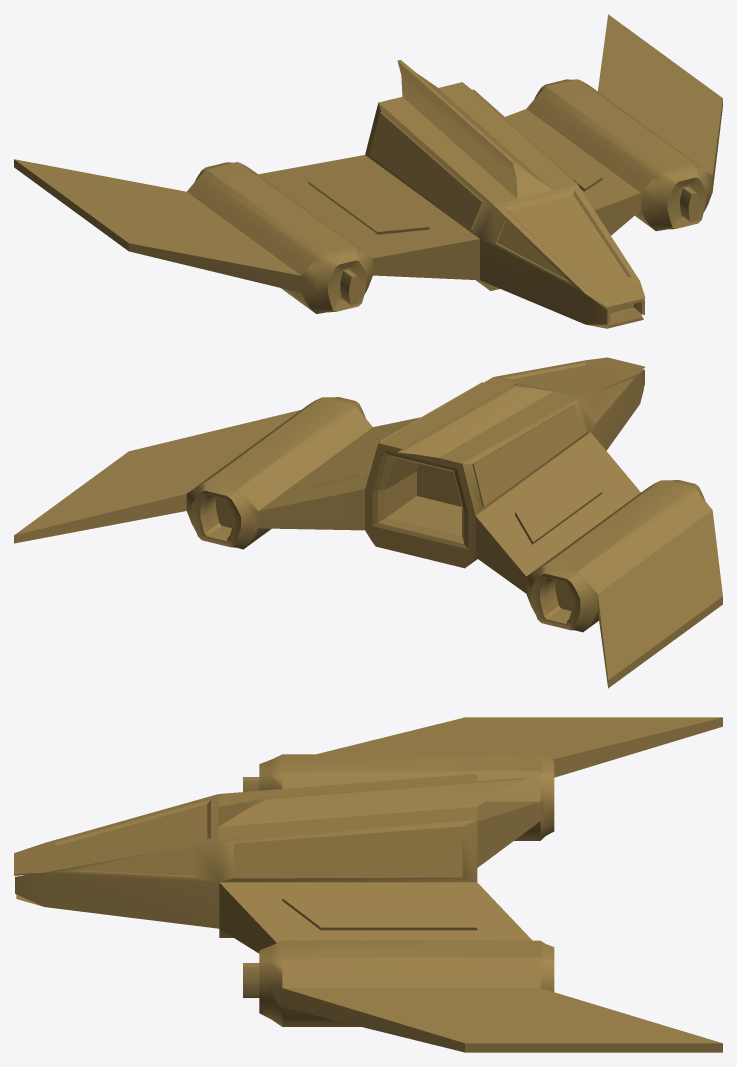
The model's file is EnemeyBomberTexture.fbx.
3 views of the same model, one above another, from view 1: azimuth 30°, elevation 25°; view 2: azimuth 150°, elevation 25°; view 3: azimuth 270°, elevation 25° (orthographic). The views are drawn at different scales.
Parts seen in each view (by area): view 1: Ship2Placeholder; view 2: Ship2Placeholder; view 3: Ship2Placeholder.
Boxes of the visible parts, box(x1,y1,x2,y2) form: Ship2Placeholder: box(14, 14, 722, 328); Ship2Placeholder: box(14, 357, 722, 688); Ship2Placeholder: box(14, 717, 722, 1052).
Size of the model in its own units: 126 by 25.91 by 115.
